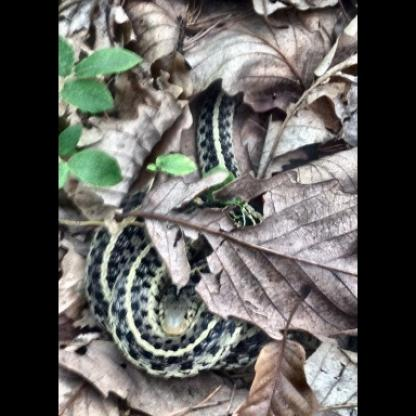Snake: (57, 12, 348, 383)
